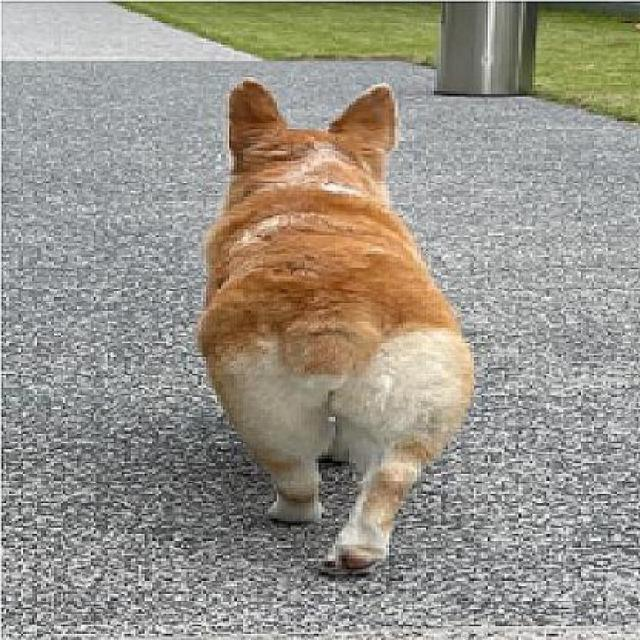Dog: (196, 75, 482, 574)
